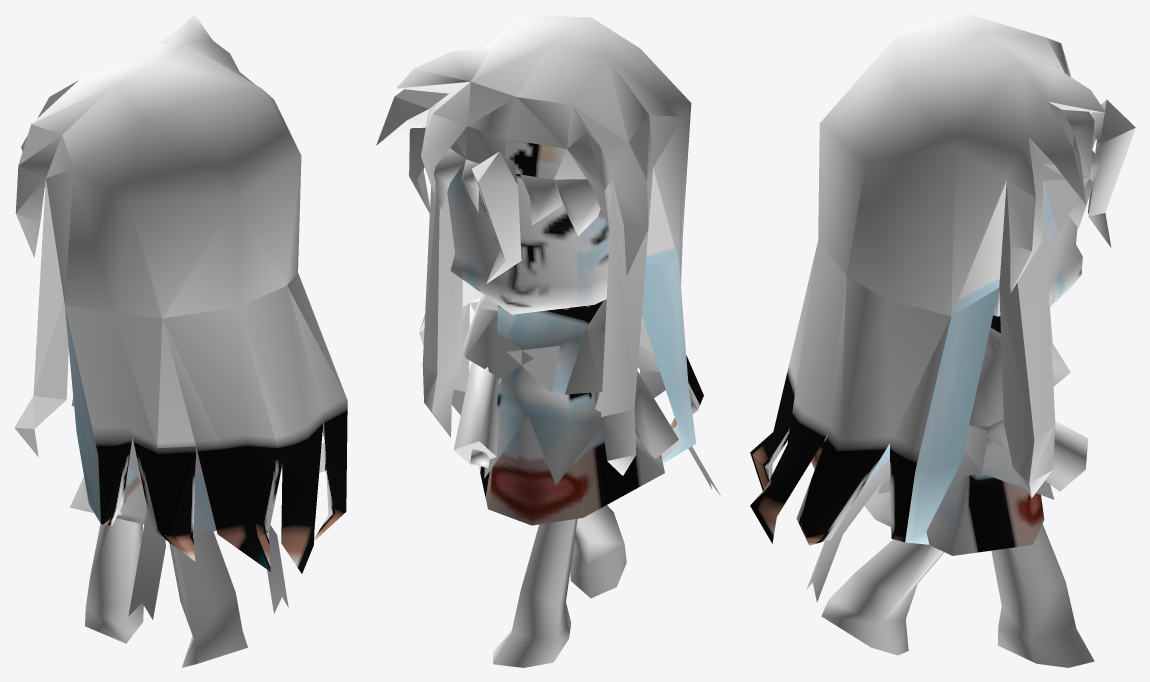
File: static.ico.obj
The picture shows the model from 3 angles, left to right: view 1: azimuth 30°, elevation 25°; view 2: azimuth 150°, elevation 25°; view 3: azimuth 270°, elevation 25°; orthographic projection. The views are drawn at different scales.
Size of the model in its own units: 2.11 by 4.47 by 2.5.
